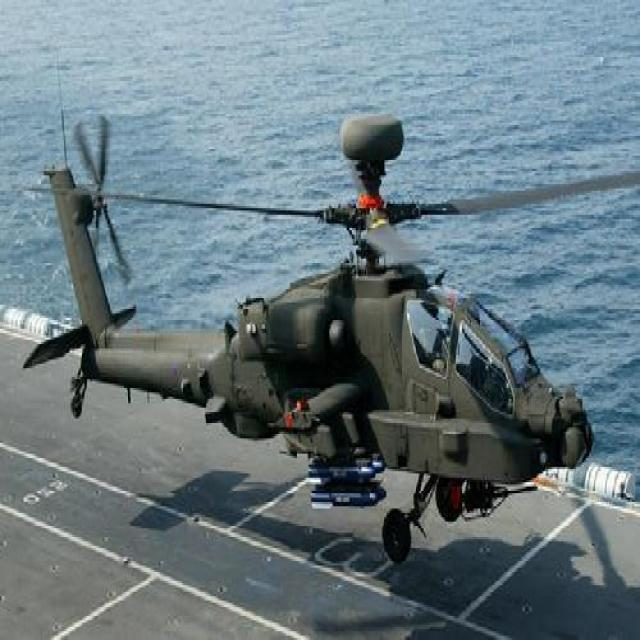MIL_HELO: (21, 97, 640, 560)
